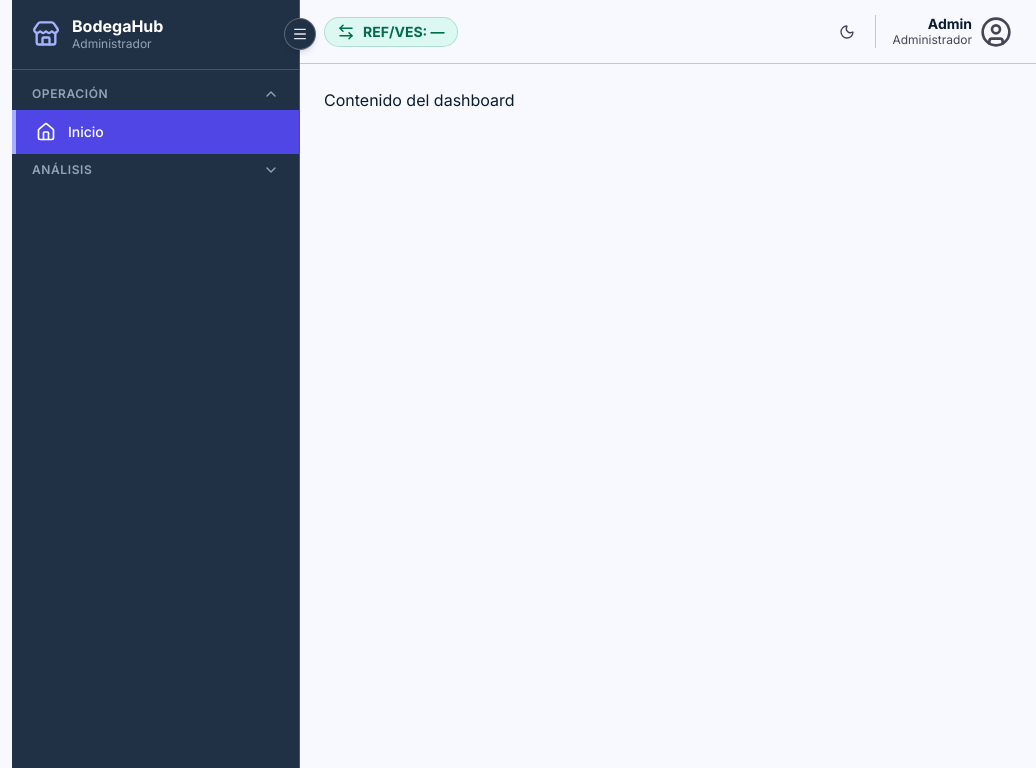
Test: AppShell › filters navigation by effective permissions when provided
This screenshot has width=1036, height=768.
Click the button "Análisis".
click(62, 169)  # box [12,154,299,186]
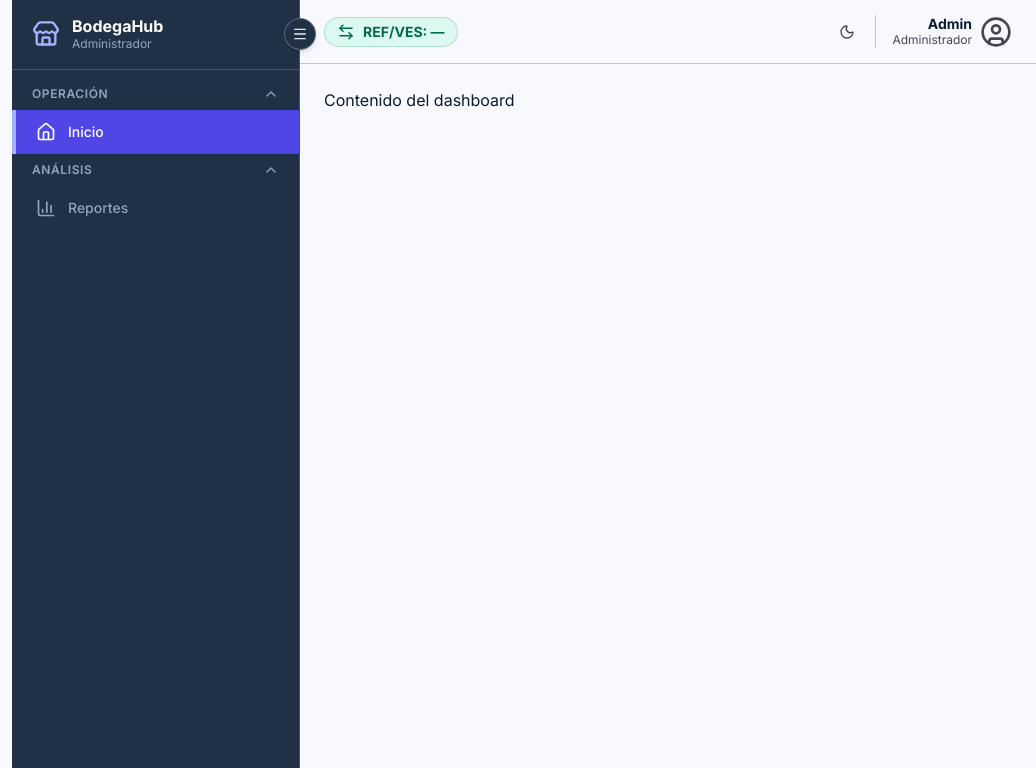
Now the link "Reportes" is shown, box [36,198,128,218]
